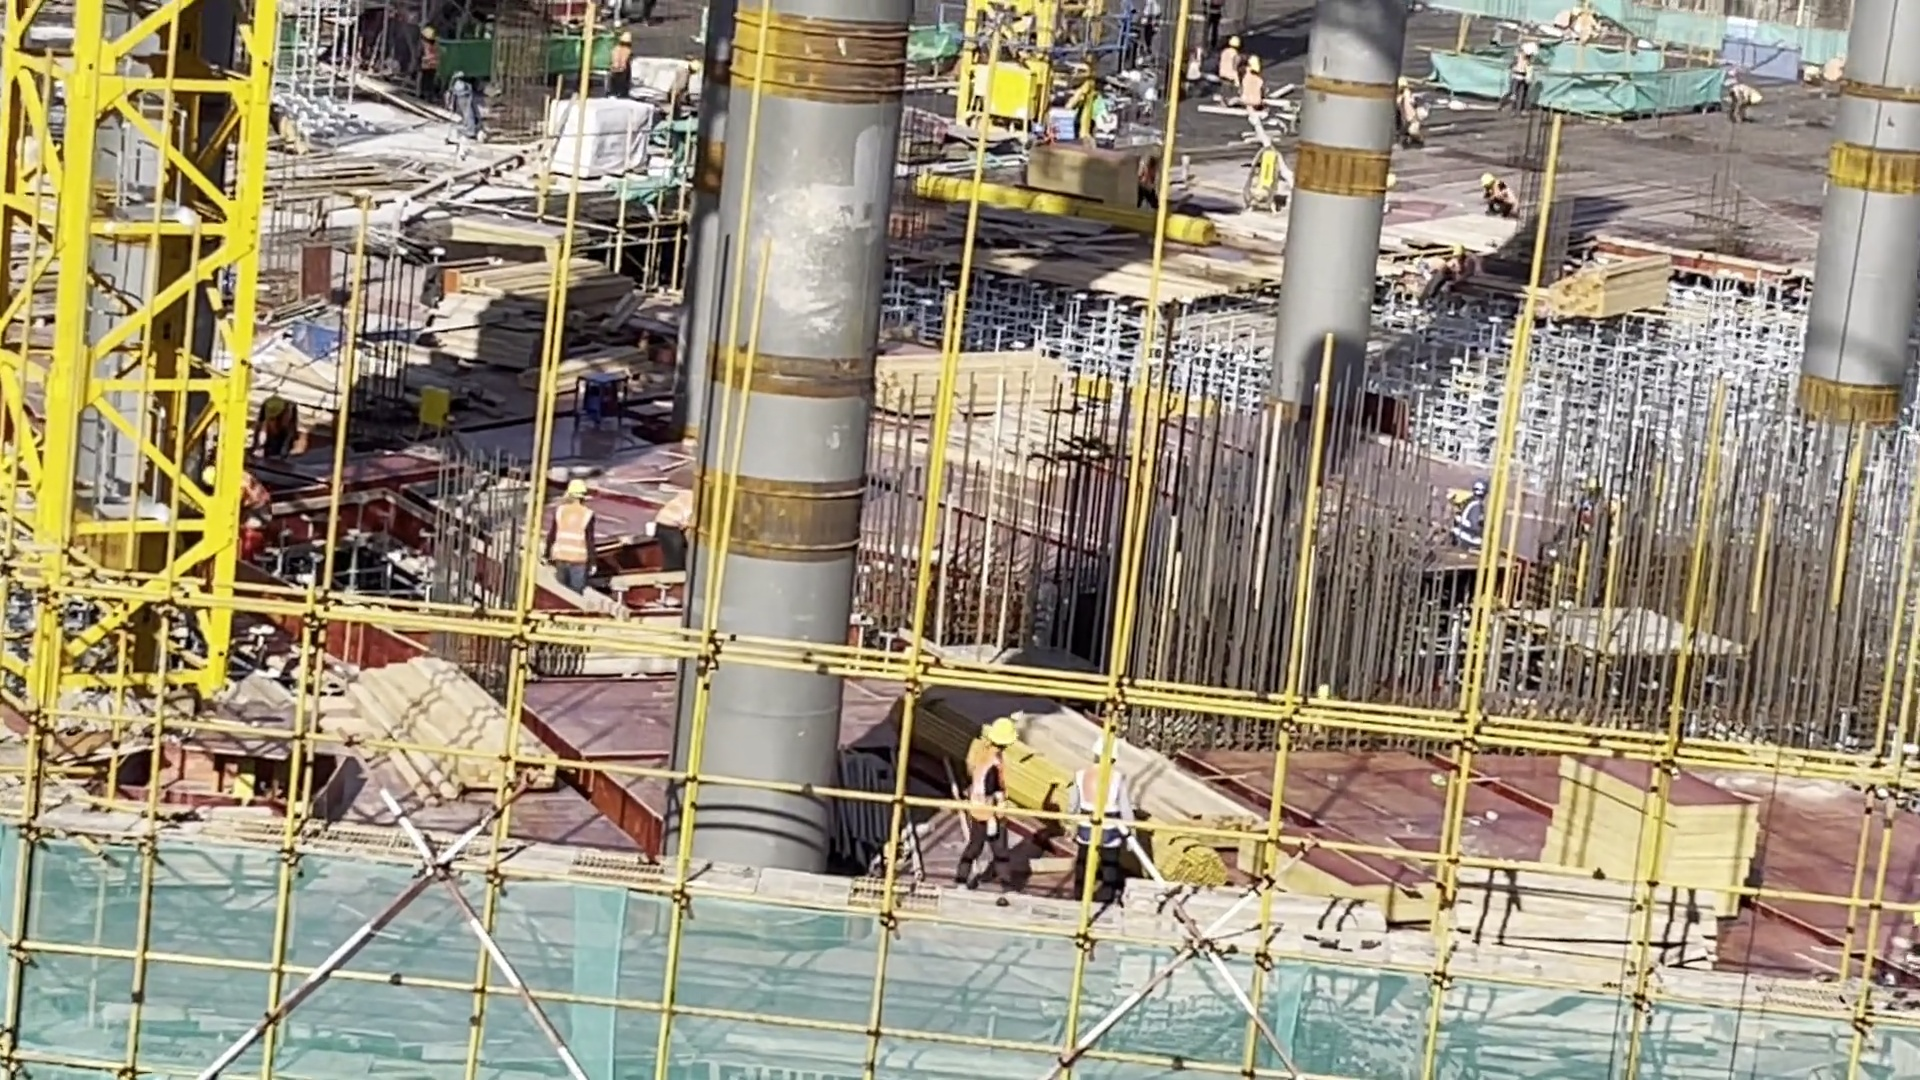board: (1544, 754, 1751, 896), (432, 270, 635, 360)
helmet: (983, 717, 1019, 742)
person: (1065, 737, 1127, 884), (962, 708, 1008, 889), (546, 472, 602, 600)
vest: (1070, 769, 1123, 849), (965, 746, 1002, 820)
wood: (1029, 726, 1265, 893), (356, 660, 546, 785), (879, 350, 1082, 415), (1542, 258, 1677, 323)
